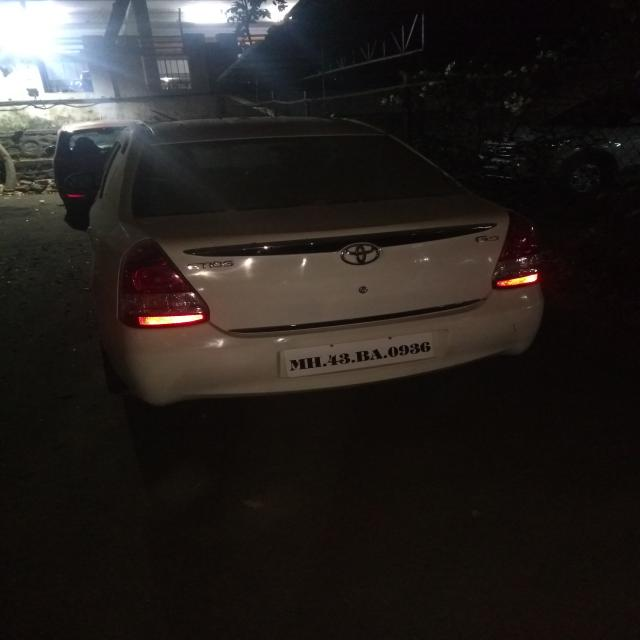Number-Plate: (287, 328, 436, 378)
